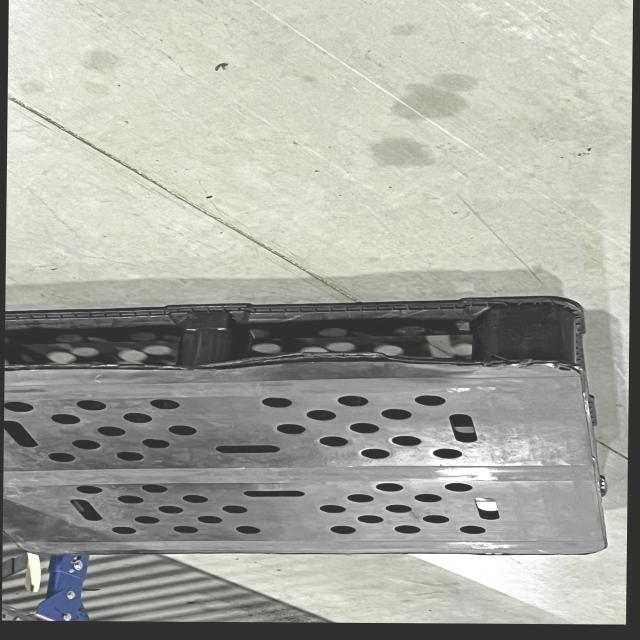igps: (0, 278, 640, 564)
